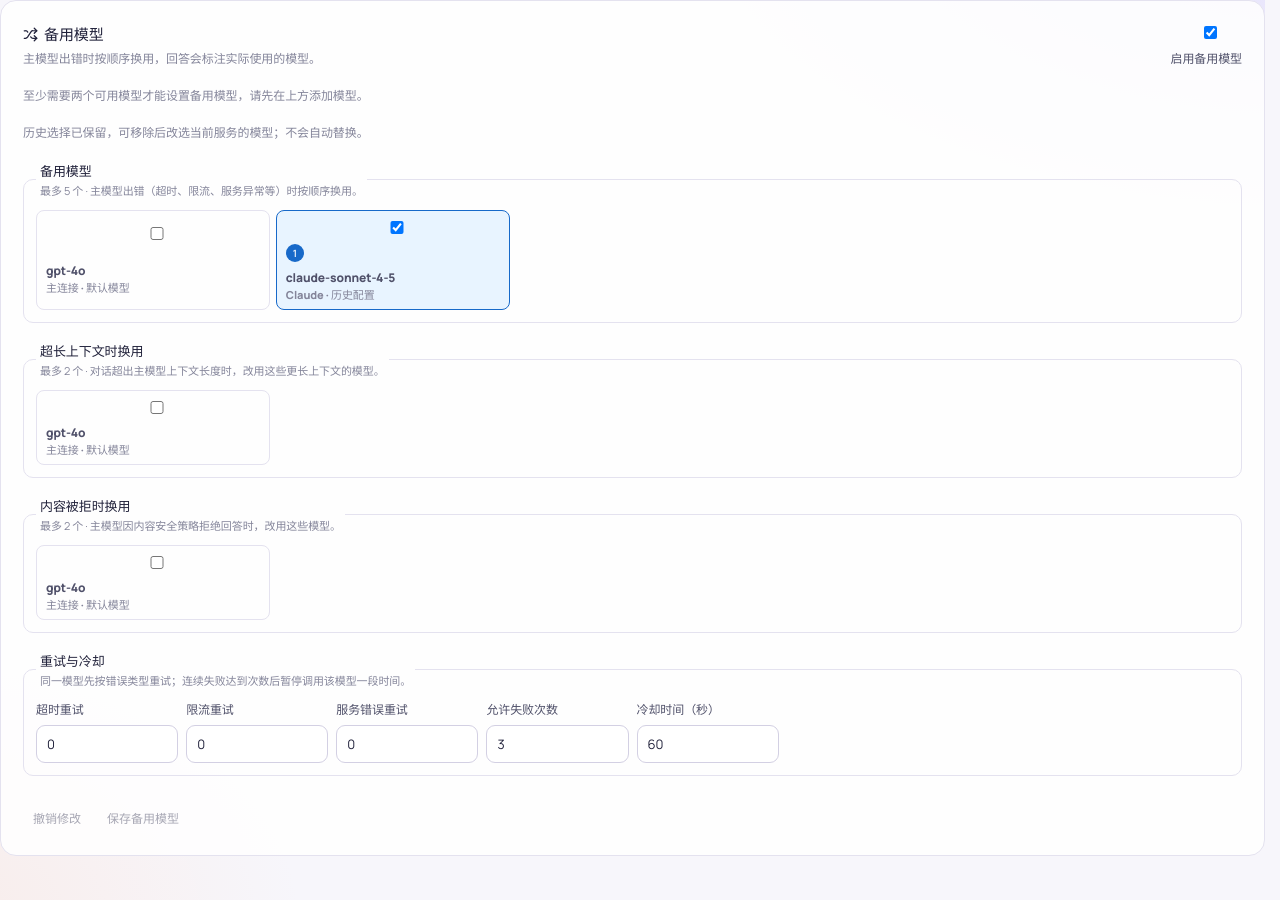
it: ModelFallbackSettings › removes a historical fallback only on explicit deselection and restores it on undo
Click the checkbox named "备用模型：claude-sonnet-4-5（Claude）".
click(397, 227)  # box [290,221,504,234]
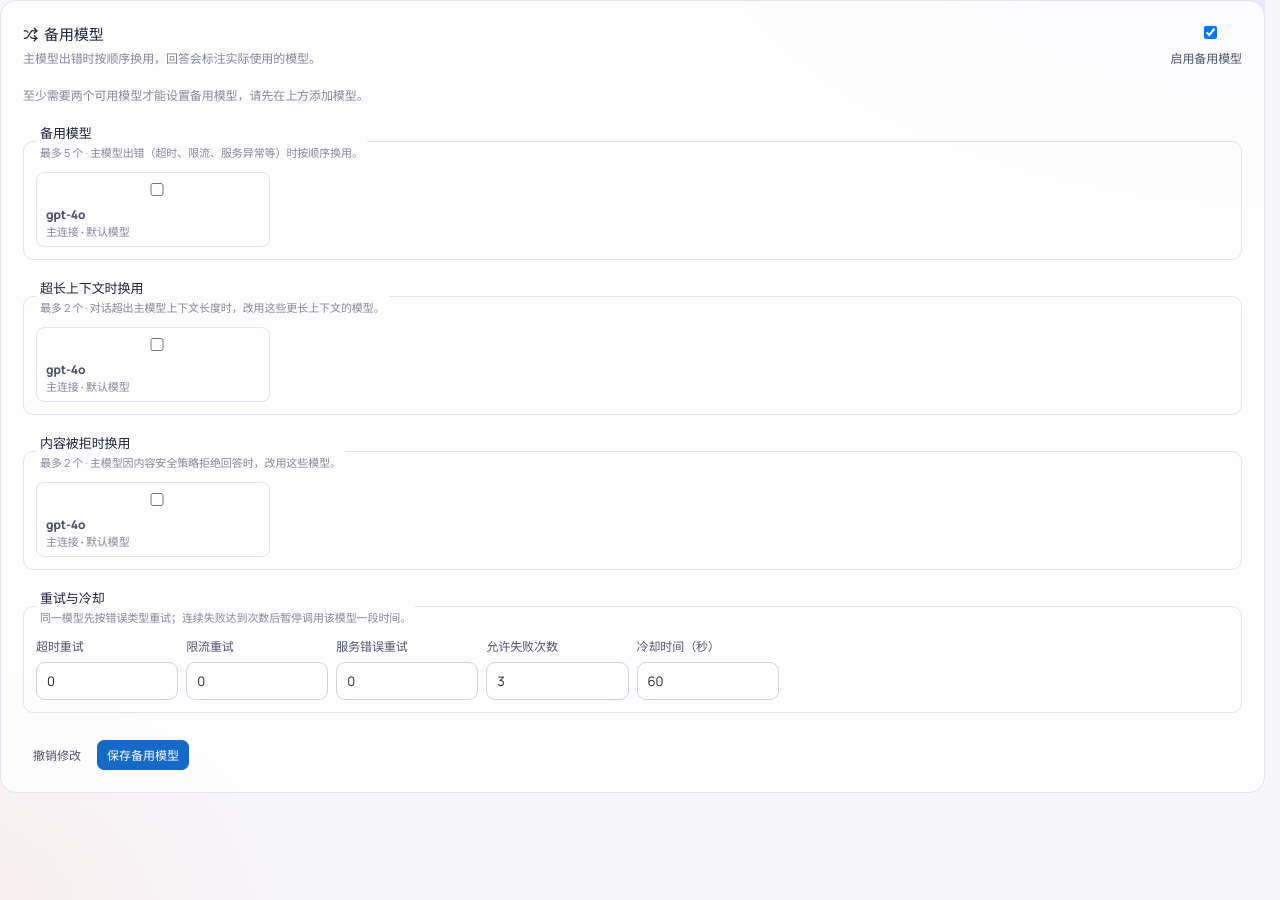
Expected: the checkbox labelled "备用模型：claude-sonnet-4-5（Claude）" is gone
Click the button "撤销修改".
click(57, 755)  # box [23,740,91,770]
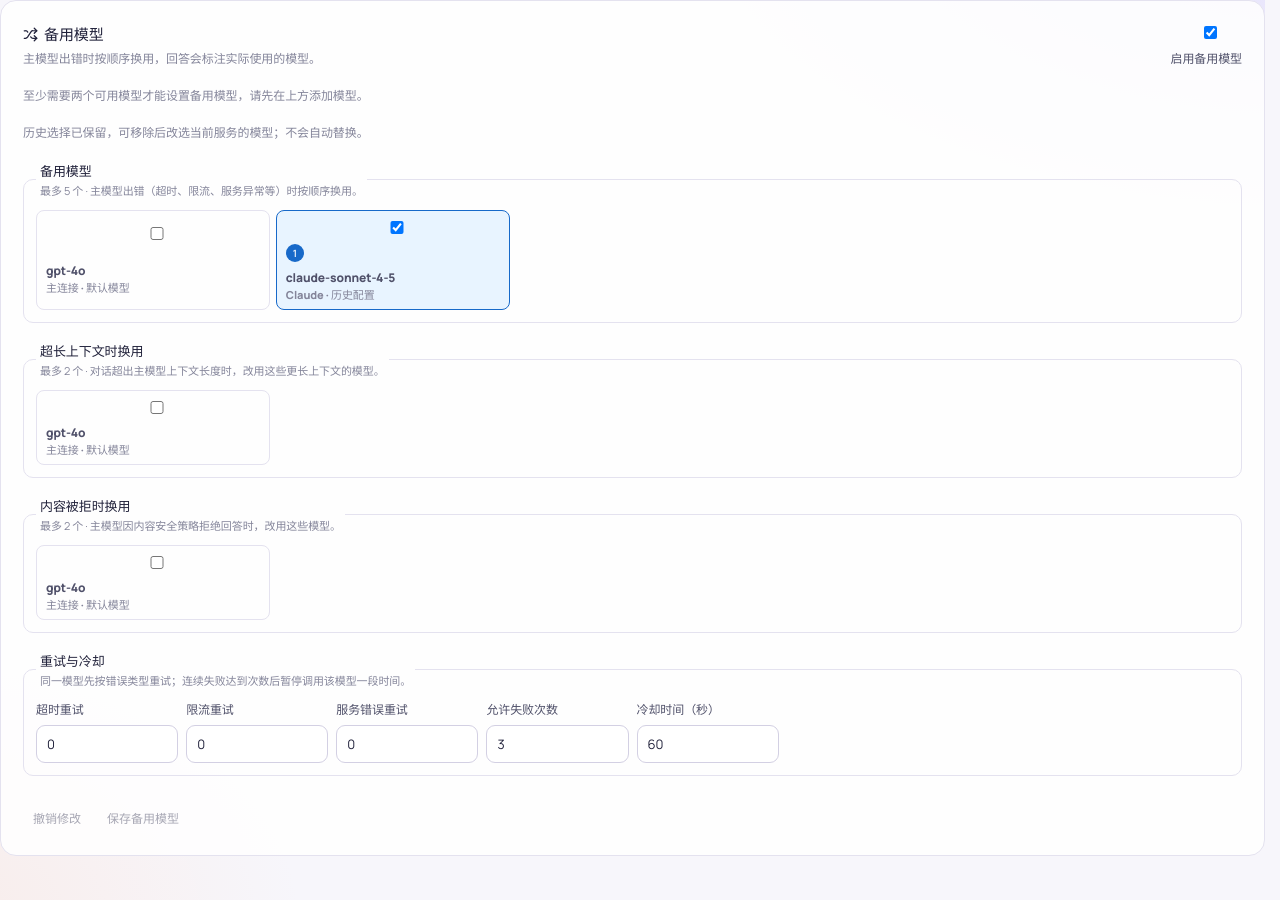
Expected: the checkbox named "备用模型：claude-sonnet-4-5（Claude）" is checked, [290,221,504,234]
